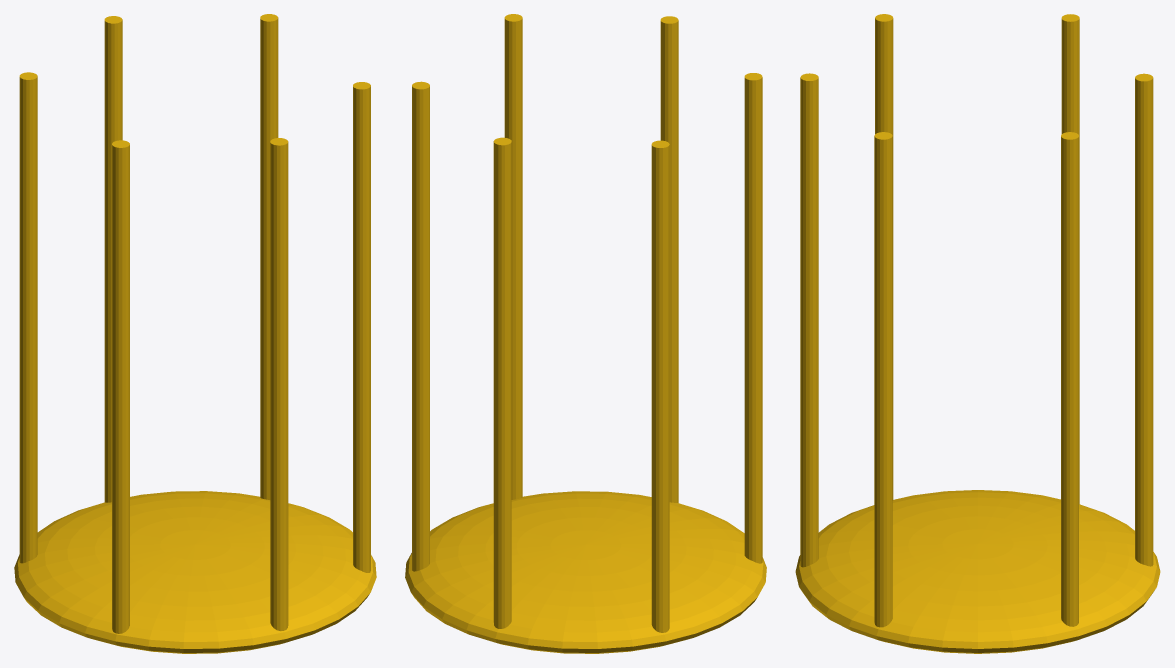
File: Directional Light.fbx
3 renders of one model, left to right at view 1: azimuth 30°, elevation 25°; view 2: azimuth 150°, elevation 25°; view 3: azimuth 270°, elevation 25°, orthographic.
Parts seen in each view (by area): view 1: Sphere.001; view 2: Sphere.001; view 3: Sphere.001.
Part boxes in pixels (x1,y1,x2,y2): Sphere.001: [14, 14, 376, 653]; Sphere.001: [405, 14, 766, 653]; Sphere.001: [795, 14, 1160, 653].
Size of the model in its own units: 4000 by 6322 by 4000.
